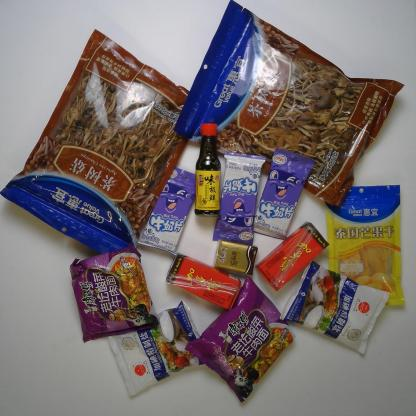Candy: (130, 162, 202, 257), (253, 147, 316, 241), (211, 150, 266, 246)
Dried Food: (172, 0, 407, 209), (0, 26, 191, 255)
Dried Fruit: (324, 183, 407, 307)
Drink: (254, 221, 330, 292), (165, 252, 242, 311)
Instant Noodles: (184, 275, 298, 405), (69, 245, 160, 344)
Seasoner: (278, 261, 390, 356), (106, 299, 206, 398), (195, 123, 222, 218)
Tissue: (208, 237, 258, 275)
